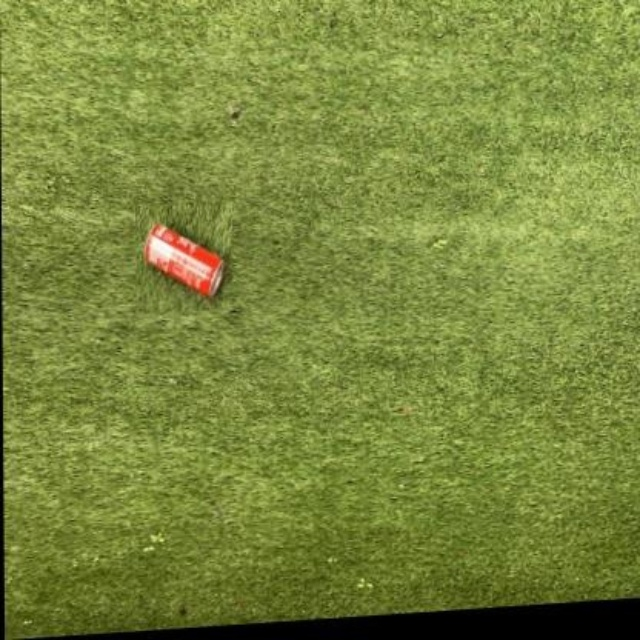trash: (145, 225, 222, 294)
